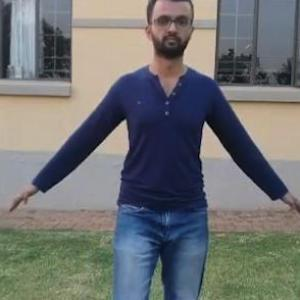land: (35, 0, 293, 299)
